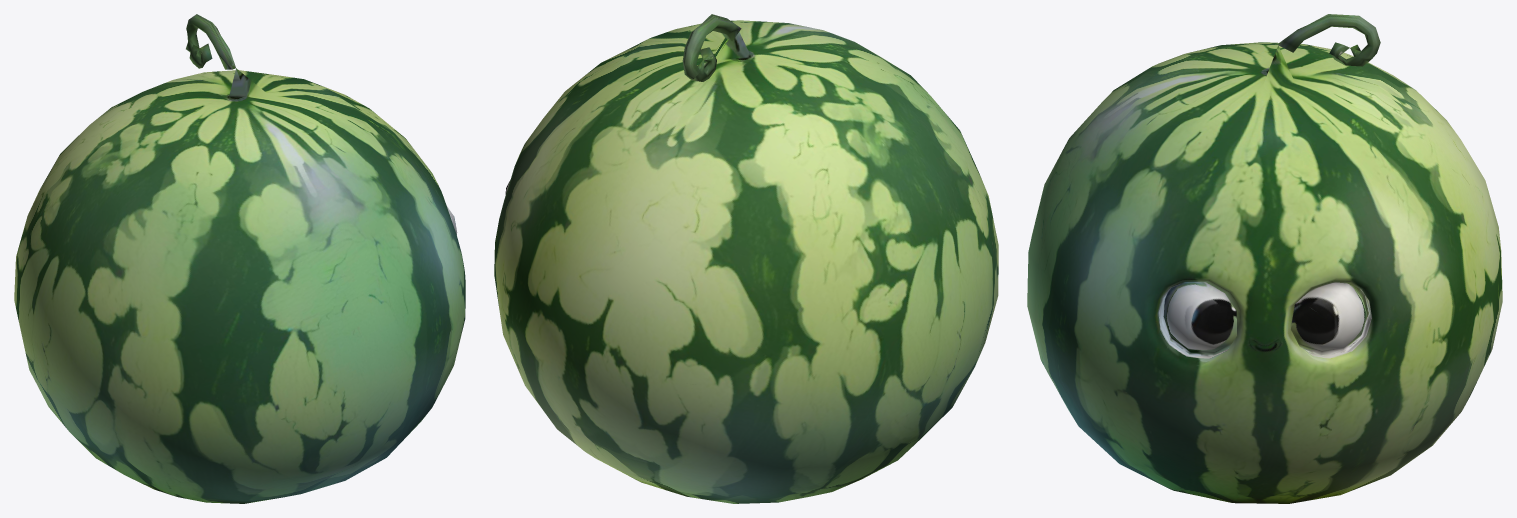
Rendered from Watermelon.fbx.
3 views of the same model, side by side, from view 1: azimuth 30°, elevation 25°; view 2: azimuth 150°, elevation 25°; view 3: azimuth 270°, elevation 25° (orthographic). The views are drawn at different scales.
Visible parts, largest first — view 1: tripo_node_3c0baf69; view 2: tripo_node_3c0baf69; view 3: tripo_node_3c0baf69.
Part boxes in pixels (<box>): tripo_node_3c0baf69: <box>14,14,465,503</box>; tripo_node_3c0baf69: <box>494,14,998,503</box>; tripo_node_3c0baf69: <box>1027,14,1502,503</box>.
Size of the model in its own units: 93.78 by 98.83 by 93.15.
Materials: 1 (1 with a texture image).
